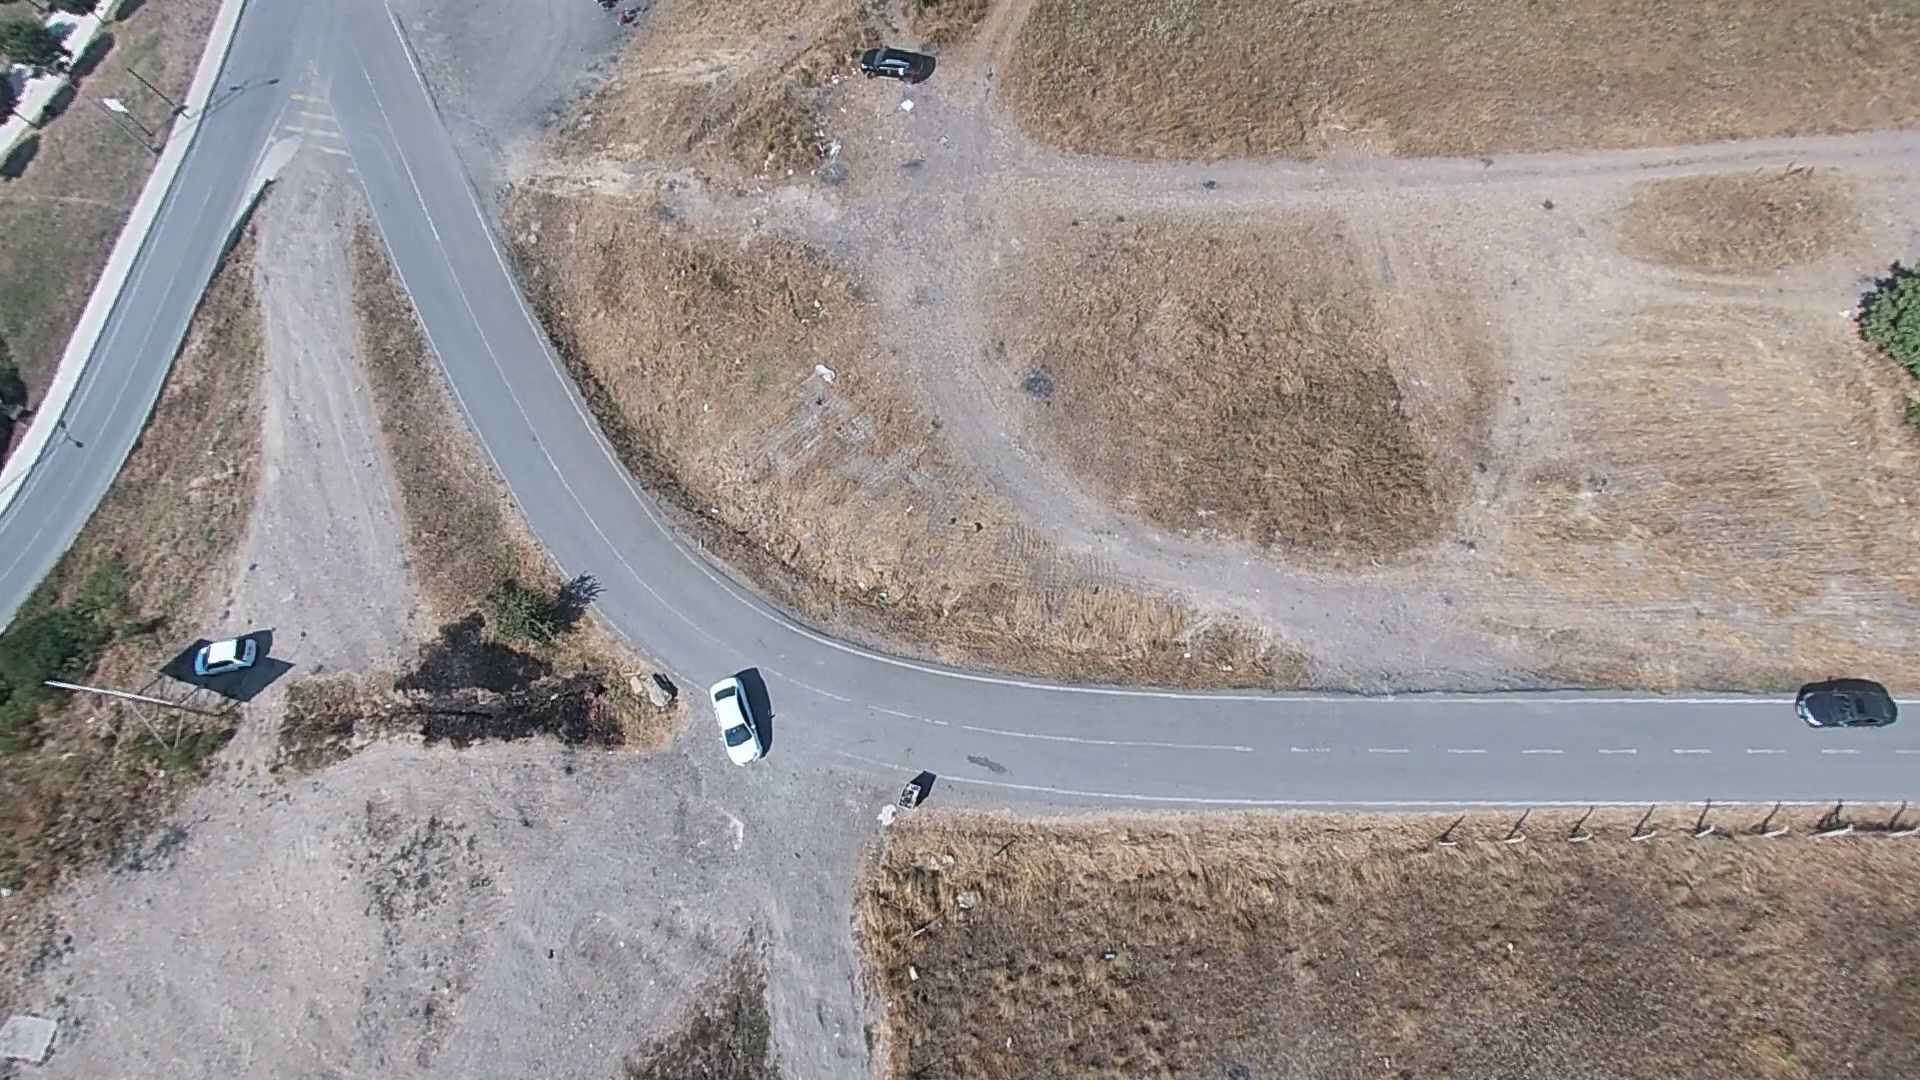araba: (709, 669, 771, 774), (1797, 680, 1898, 733), (193, 633, 264, 674), (862, 47, 930, 76)
